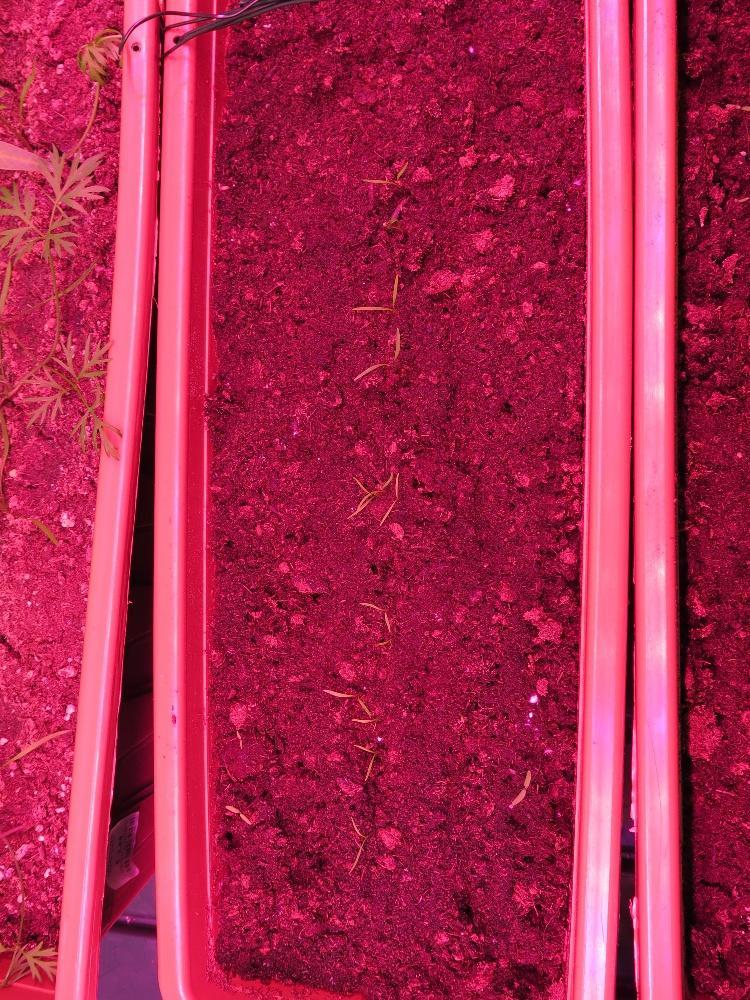crop: (351, 324, 400, 385), (350, 269, 397, 312), (320, 686, 371, 716), (359, 154, 408, 185), (345, 810, 366, 874), (357, 597, 391, 634), (351, 741, 377, 784)
weed: (507, 765, 531, 810), (223, 802, 252, 828), (234, 727, 242, 751)
